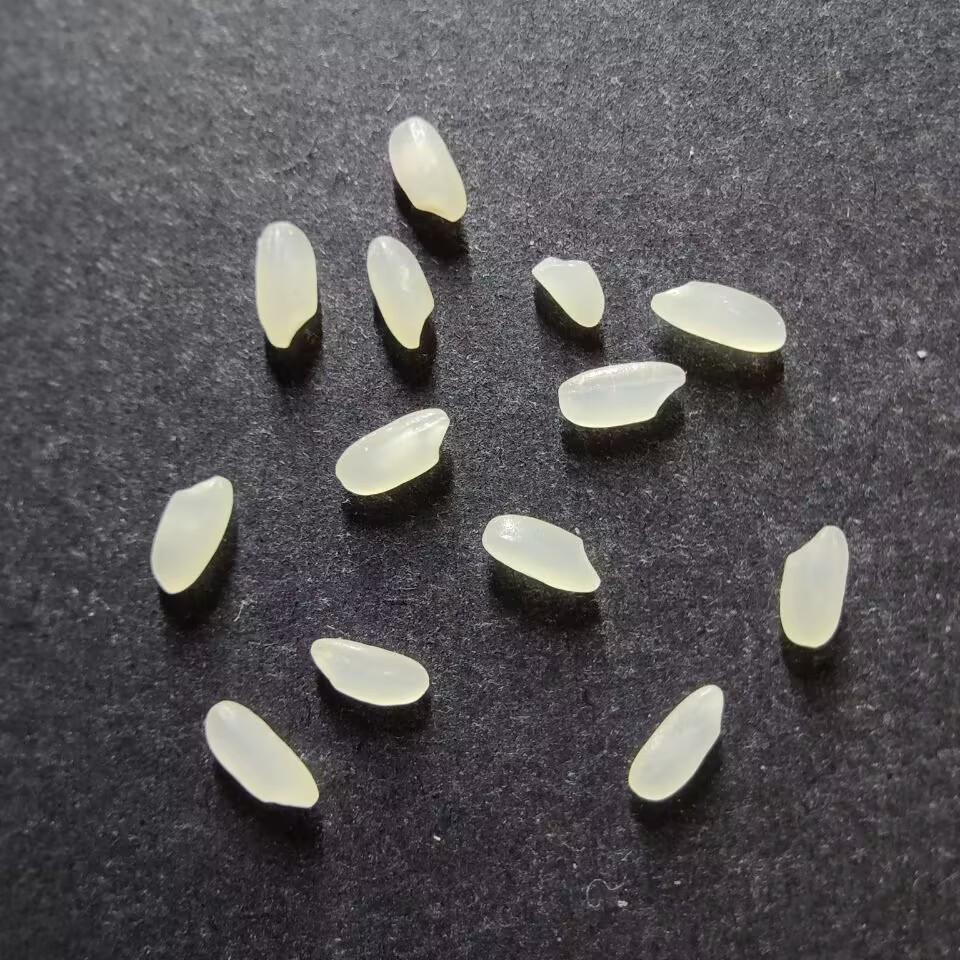broken: (530, 256, 605, 327)
rice: (203, 699, 319, 809), (627, 684, 723, 800), (334, 407, 450, 495), (649, 280, 787, 353), (150, 475, 232, 594), (481, 514, 601, 593), (557, 360, 686, 428), (778, 524, 848, 648), (309, 637, 430, 706), (253, 220, 318, 348), (387, 117, 466, 222), (365, 235, 435, 350)
